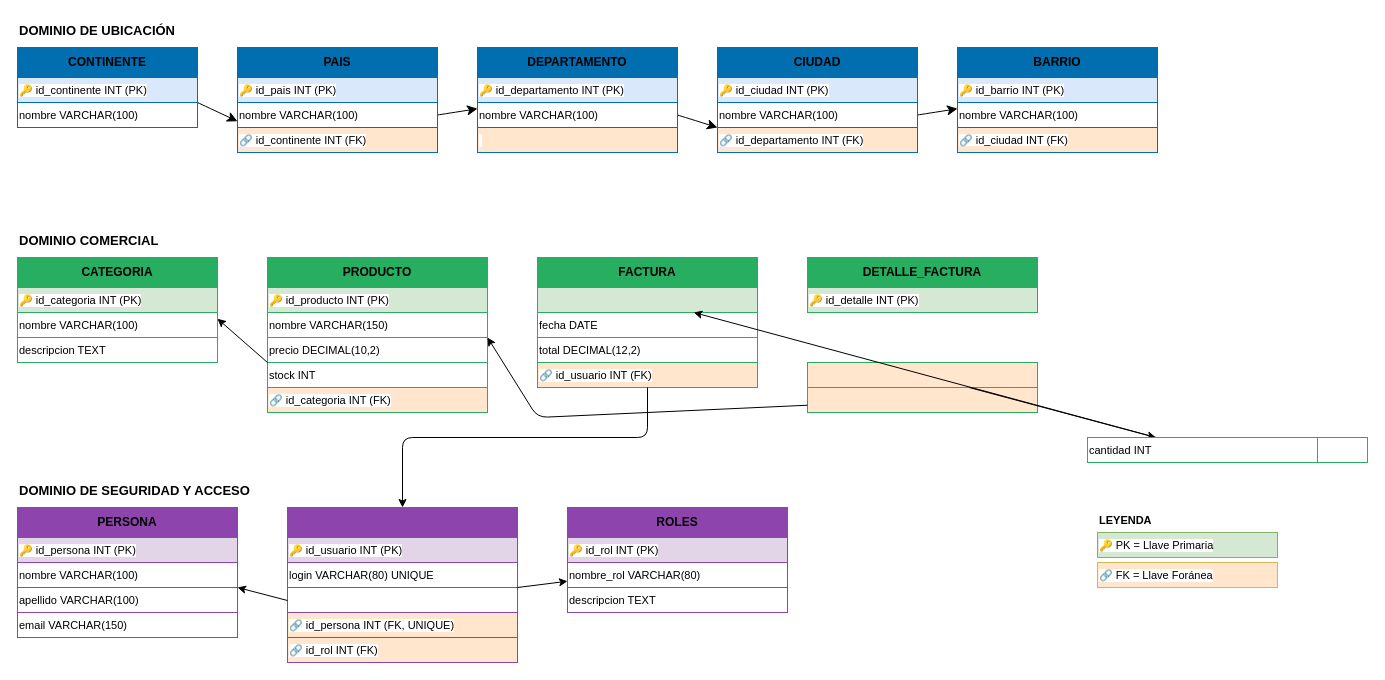
This 1385x680 diagram has some shape labels left out. The centre of each missing label's shape, as x and y in pixels:
password VARCHAR(255): the point at 402,599
USUARIO: the point at 402,522
🔑 id_factura INT (PK): the point at 647,299
🔗 id_factura INT (FK): the point at 922,375
🔗 id_producto INT (FK): the point at 922,399
